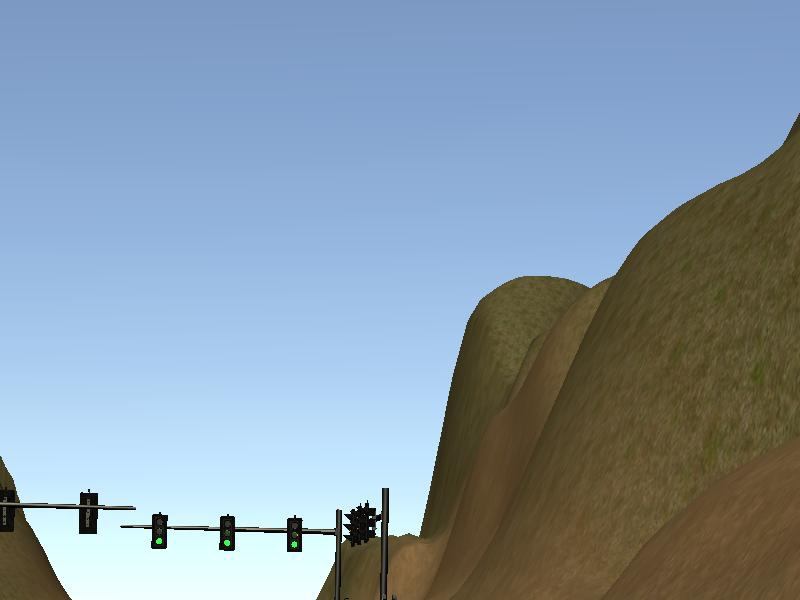green_light: (152, 515, 167, 548), (287, 518, 301, 552), (222, 516, 235, 548)
